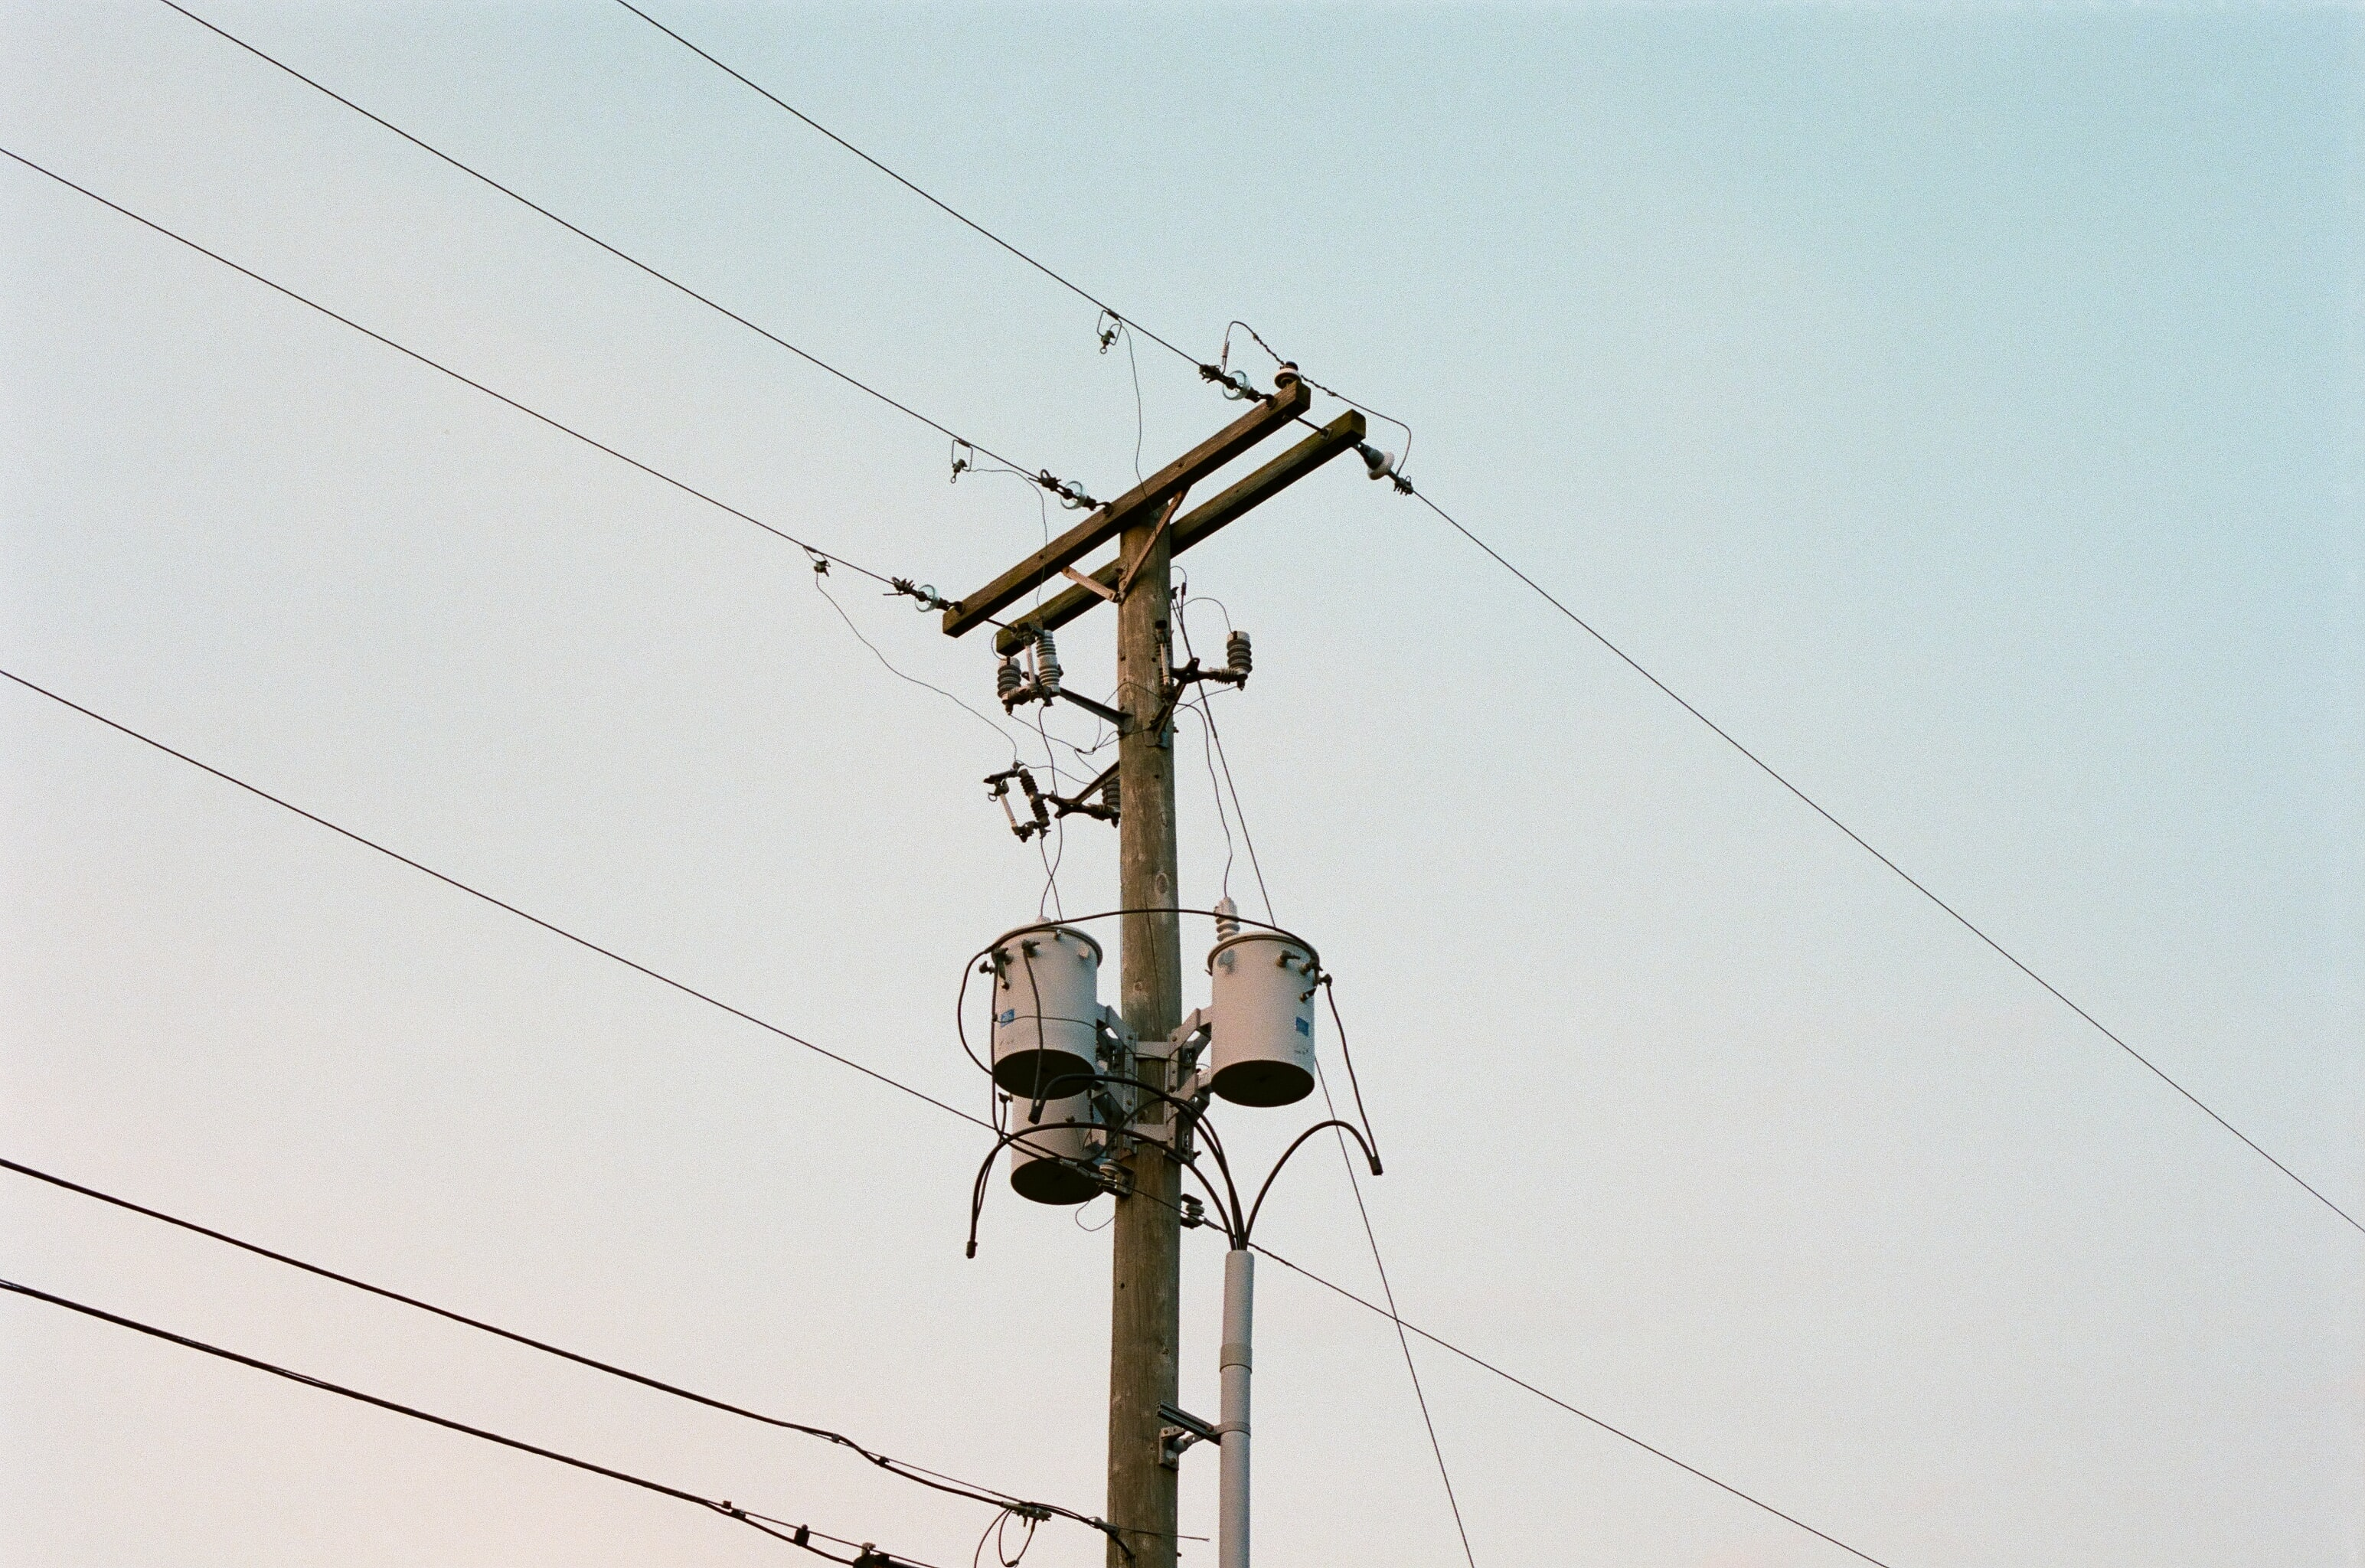utility_pole: (838, 325, 1434, 1286)
